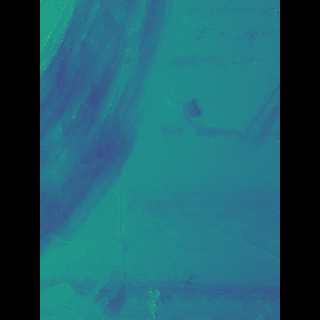Loch: (69, 0, 183, 278), (206, 74, 250, 179), (194, 221, 250, 264)
